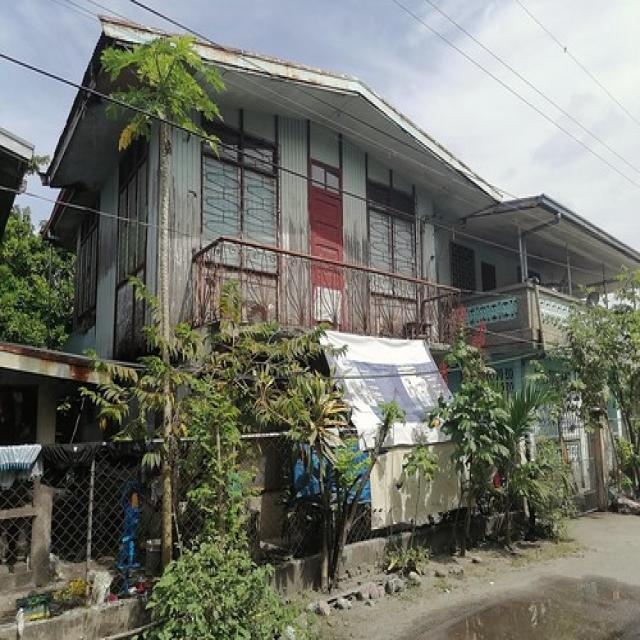Normal_building: (43, 14, 639, 550)
